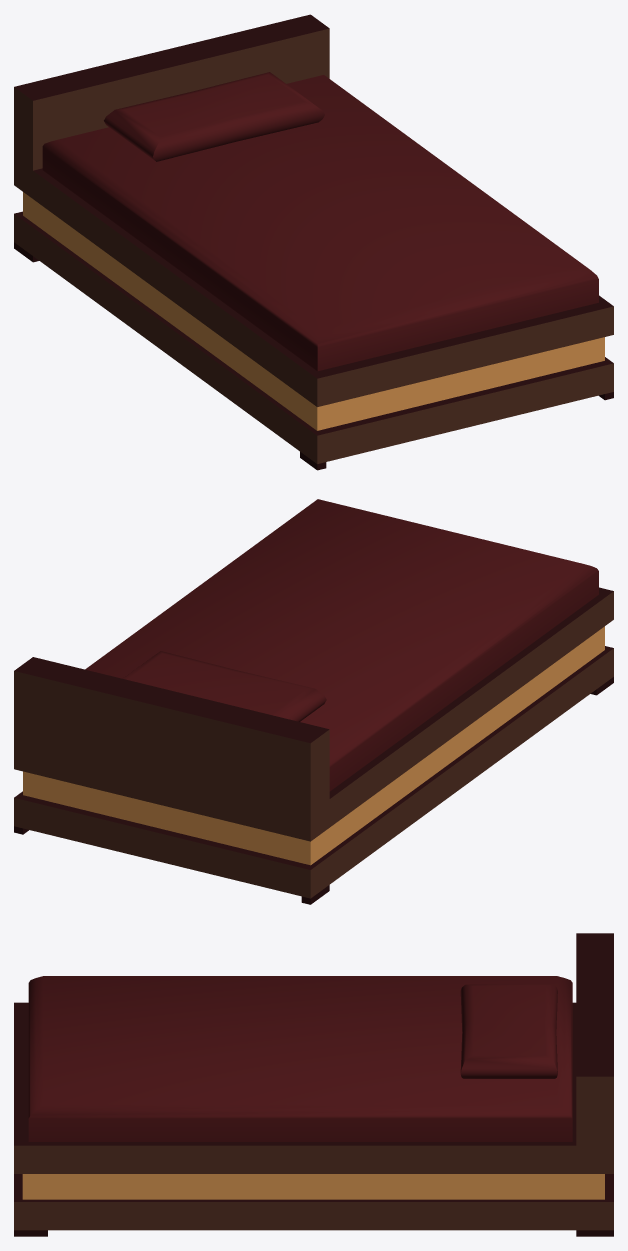
File: Bed.fbx
3 views of the same model, one above another, from view 1: azimuth 30°, elevation 25°; view 2: azimuth 150°, elevation 25°; view 3: azimuth 270°, elevation 25° (orthographic).
Parts seen in each view (by area): view 1: Bett; view 2: Bett; view 3: Bett.
Part boxes in pixels (x1=…): Bett: x1=14, y1=14, x2=613, y2=470; Bett: x1=14, y1=499, x2=613, y2=904; Bett: x1=14, y1=933, x2=613, y2=1236.
Bounding box in the file's own units: 192 × 99.85 × 340.
